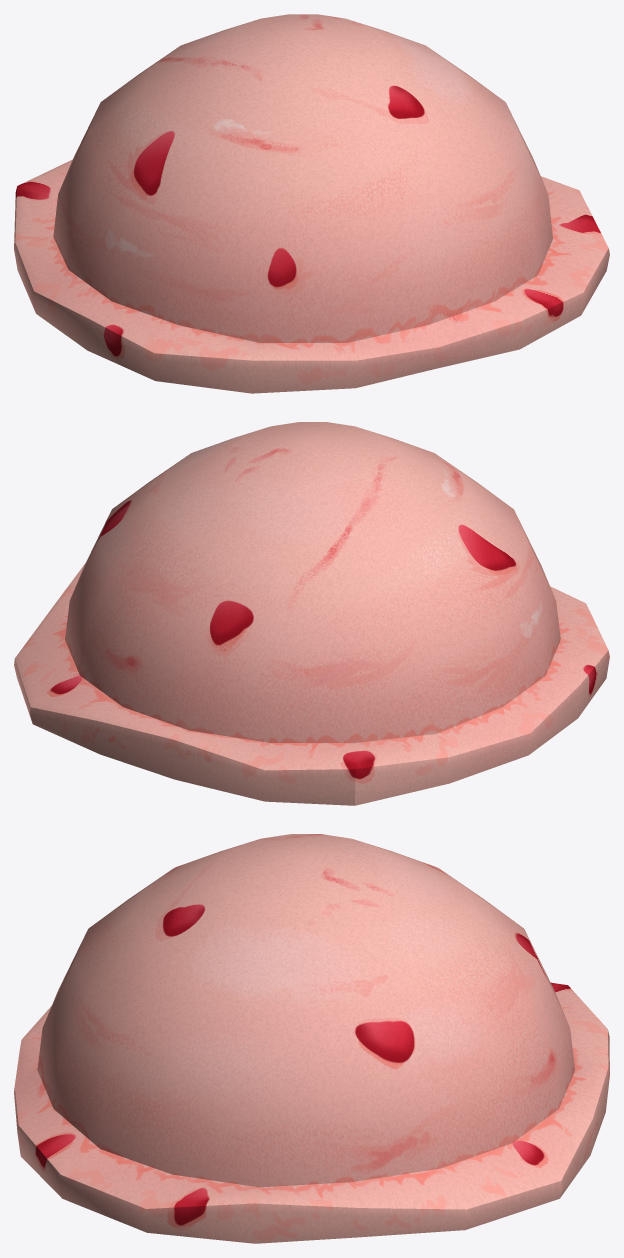
File: icecream.fbx
The picture shows the model from 3 angles, top to bottom: view 1: azimuth 30°, elevation 25°; view 2: azimuth 150°, elevation 25°; view 3: azimuth 270°, elevation 25°; orthographic projection. The views are drawn at different scales.
Visible parts, largest first — view 1: Sphere001; view 2: Sphere001; view 3: Sphere001.
Boxes of the visible parts, <box> form: Sphere001: <box>14,14,609,393</box>; Sphere001: <box>14,422,609,805</box>; Sphere001: <box>14,834,609,1243</box>.
Bounding box in the file's own units: 36.19 × 16.4 × 34.79.
